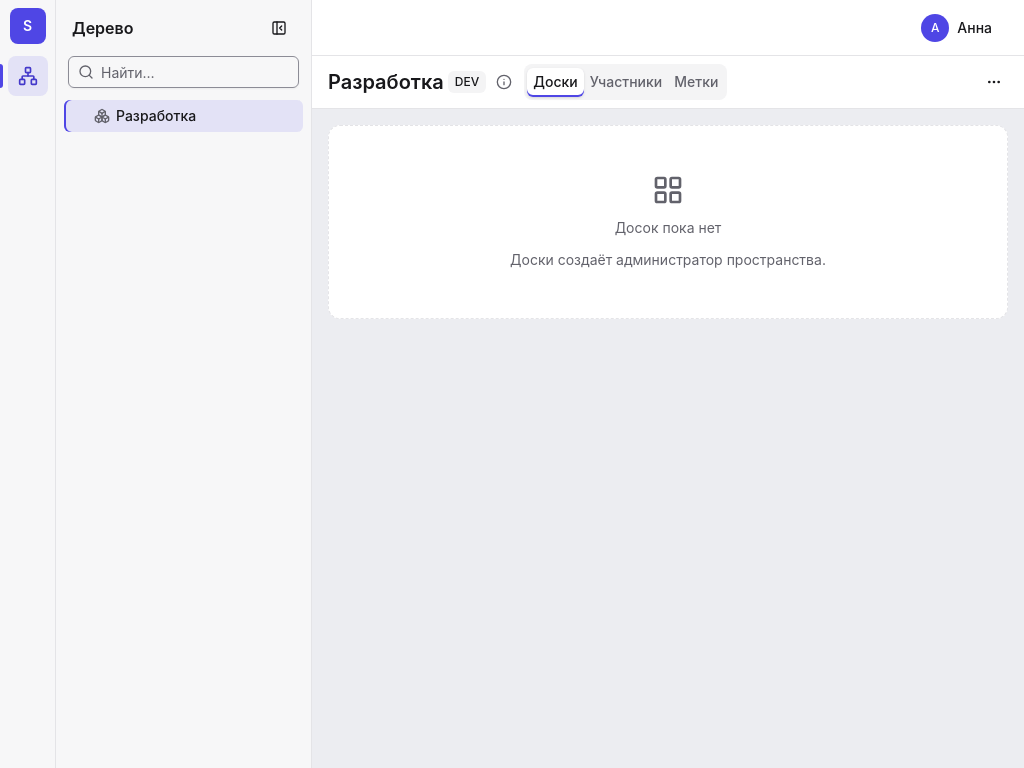
Scenario: Страница пространства › редактор видит участников, но не управляет ими и пространством
The image size is (1024, 768).
What coordinates should you click on to do the following:
click the tab "Участники"
I would click on:
 (626, 82)
Its box is [584,68,668,96].
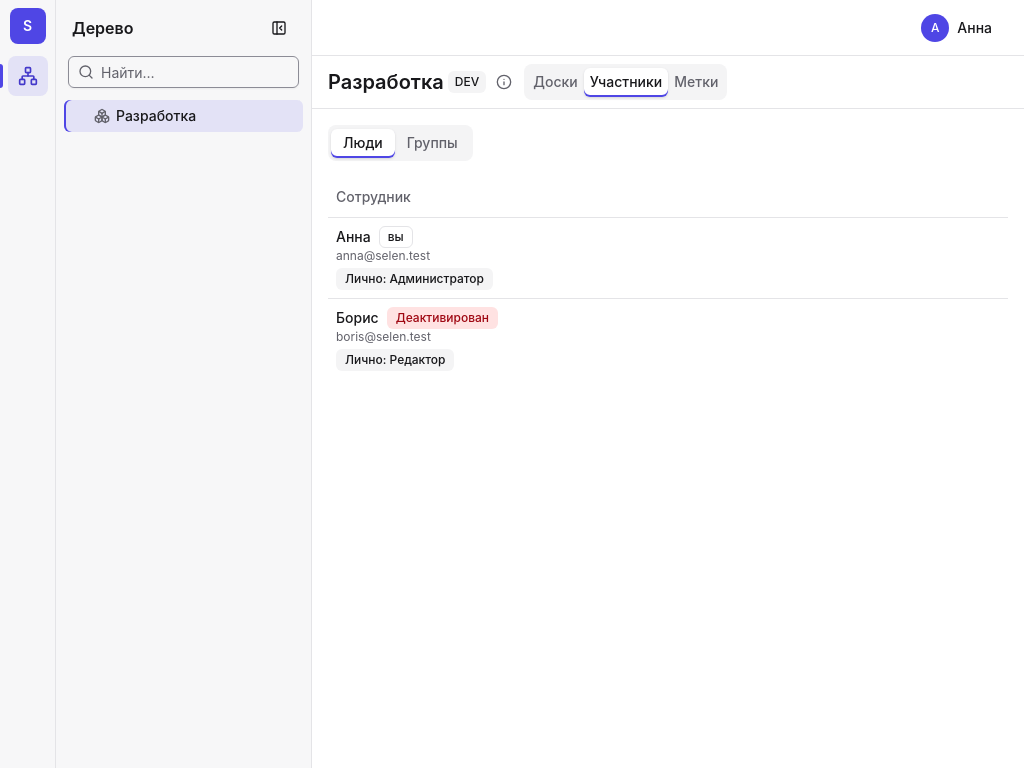
Now the text "Борис" is shown, box [336,308,379,326]
